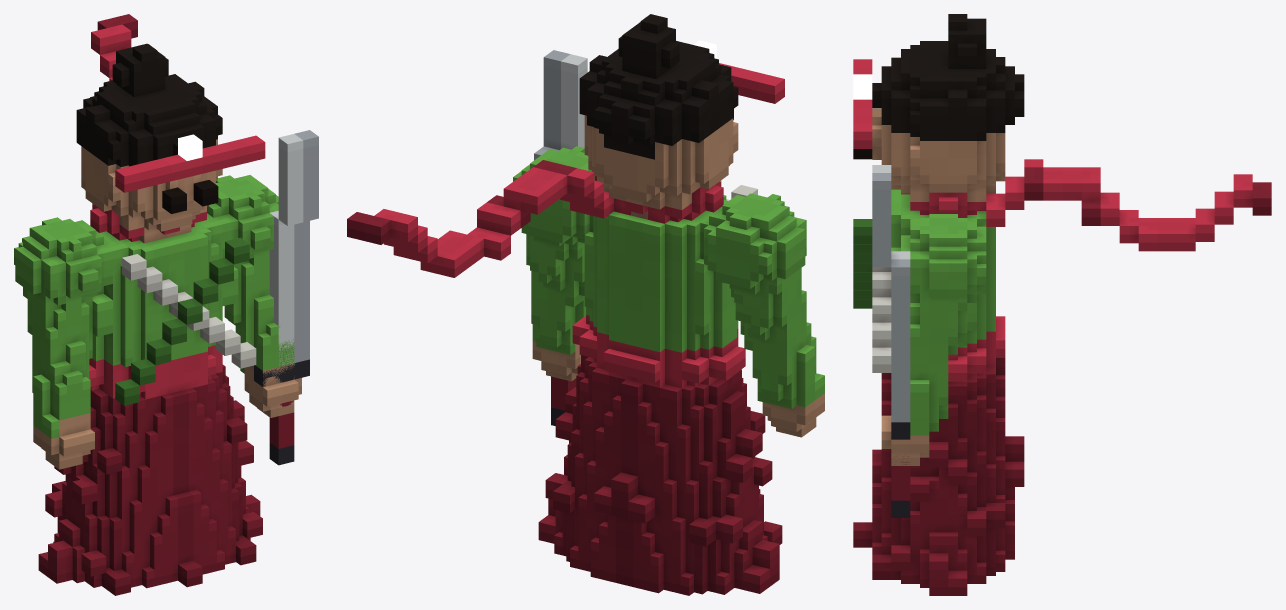
File: u_lame__moine.glb
3 views of the same model, side by side, from view 1: azimuth 30°, elevation 25°; view 2: azimuth 150°, elevation 25°; view 3: azimuth 270°, elevation 25° (orthographic). The views are drawn at different scales.
Visible parts, largest first — view 1: lame_body, lame_weapon, lame_glow; view 2: lame_body, lame_weapon; view 3: lame_body, lame_weapon.
Boxes of the visible parts, <box> form: lame_body: <box>14,14,301,595</box>; lame_weapon: <box>254,130,318,465</box>; lame_glow: <box>178,134,202,160</box>; lame_body: <box>347,14,824,595</box>; lame_weapon: <box>534,50,587,425</box>; lame_body: <box>853,14,1271,595</box>; lame_weapon: <box>872,165,910,517</box>.
Size of the model in its own units: 0.825 by 1.53 by 1.1.
